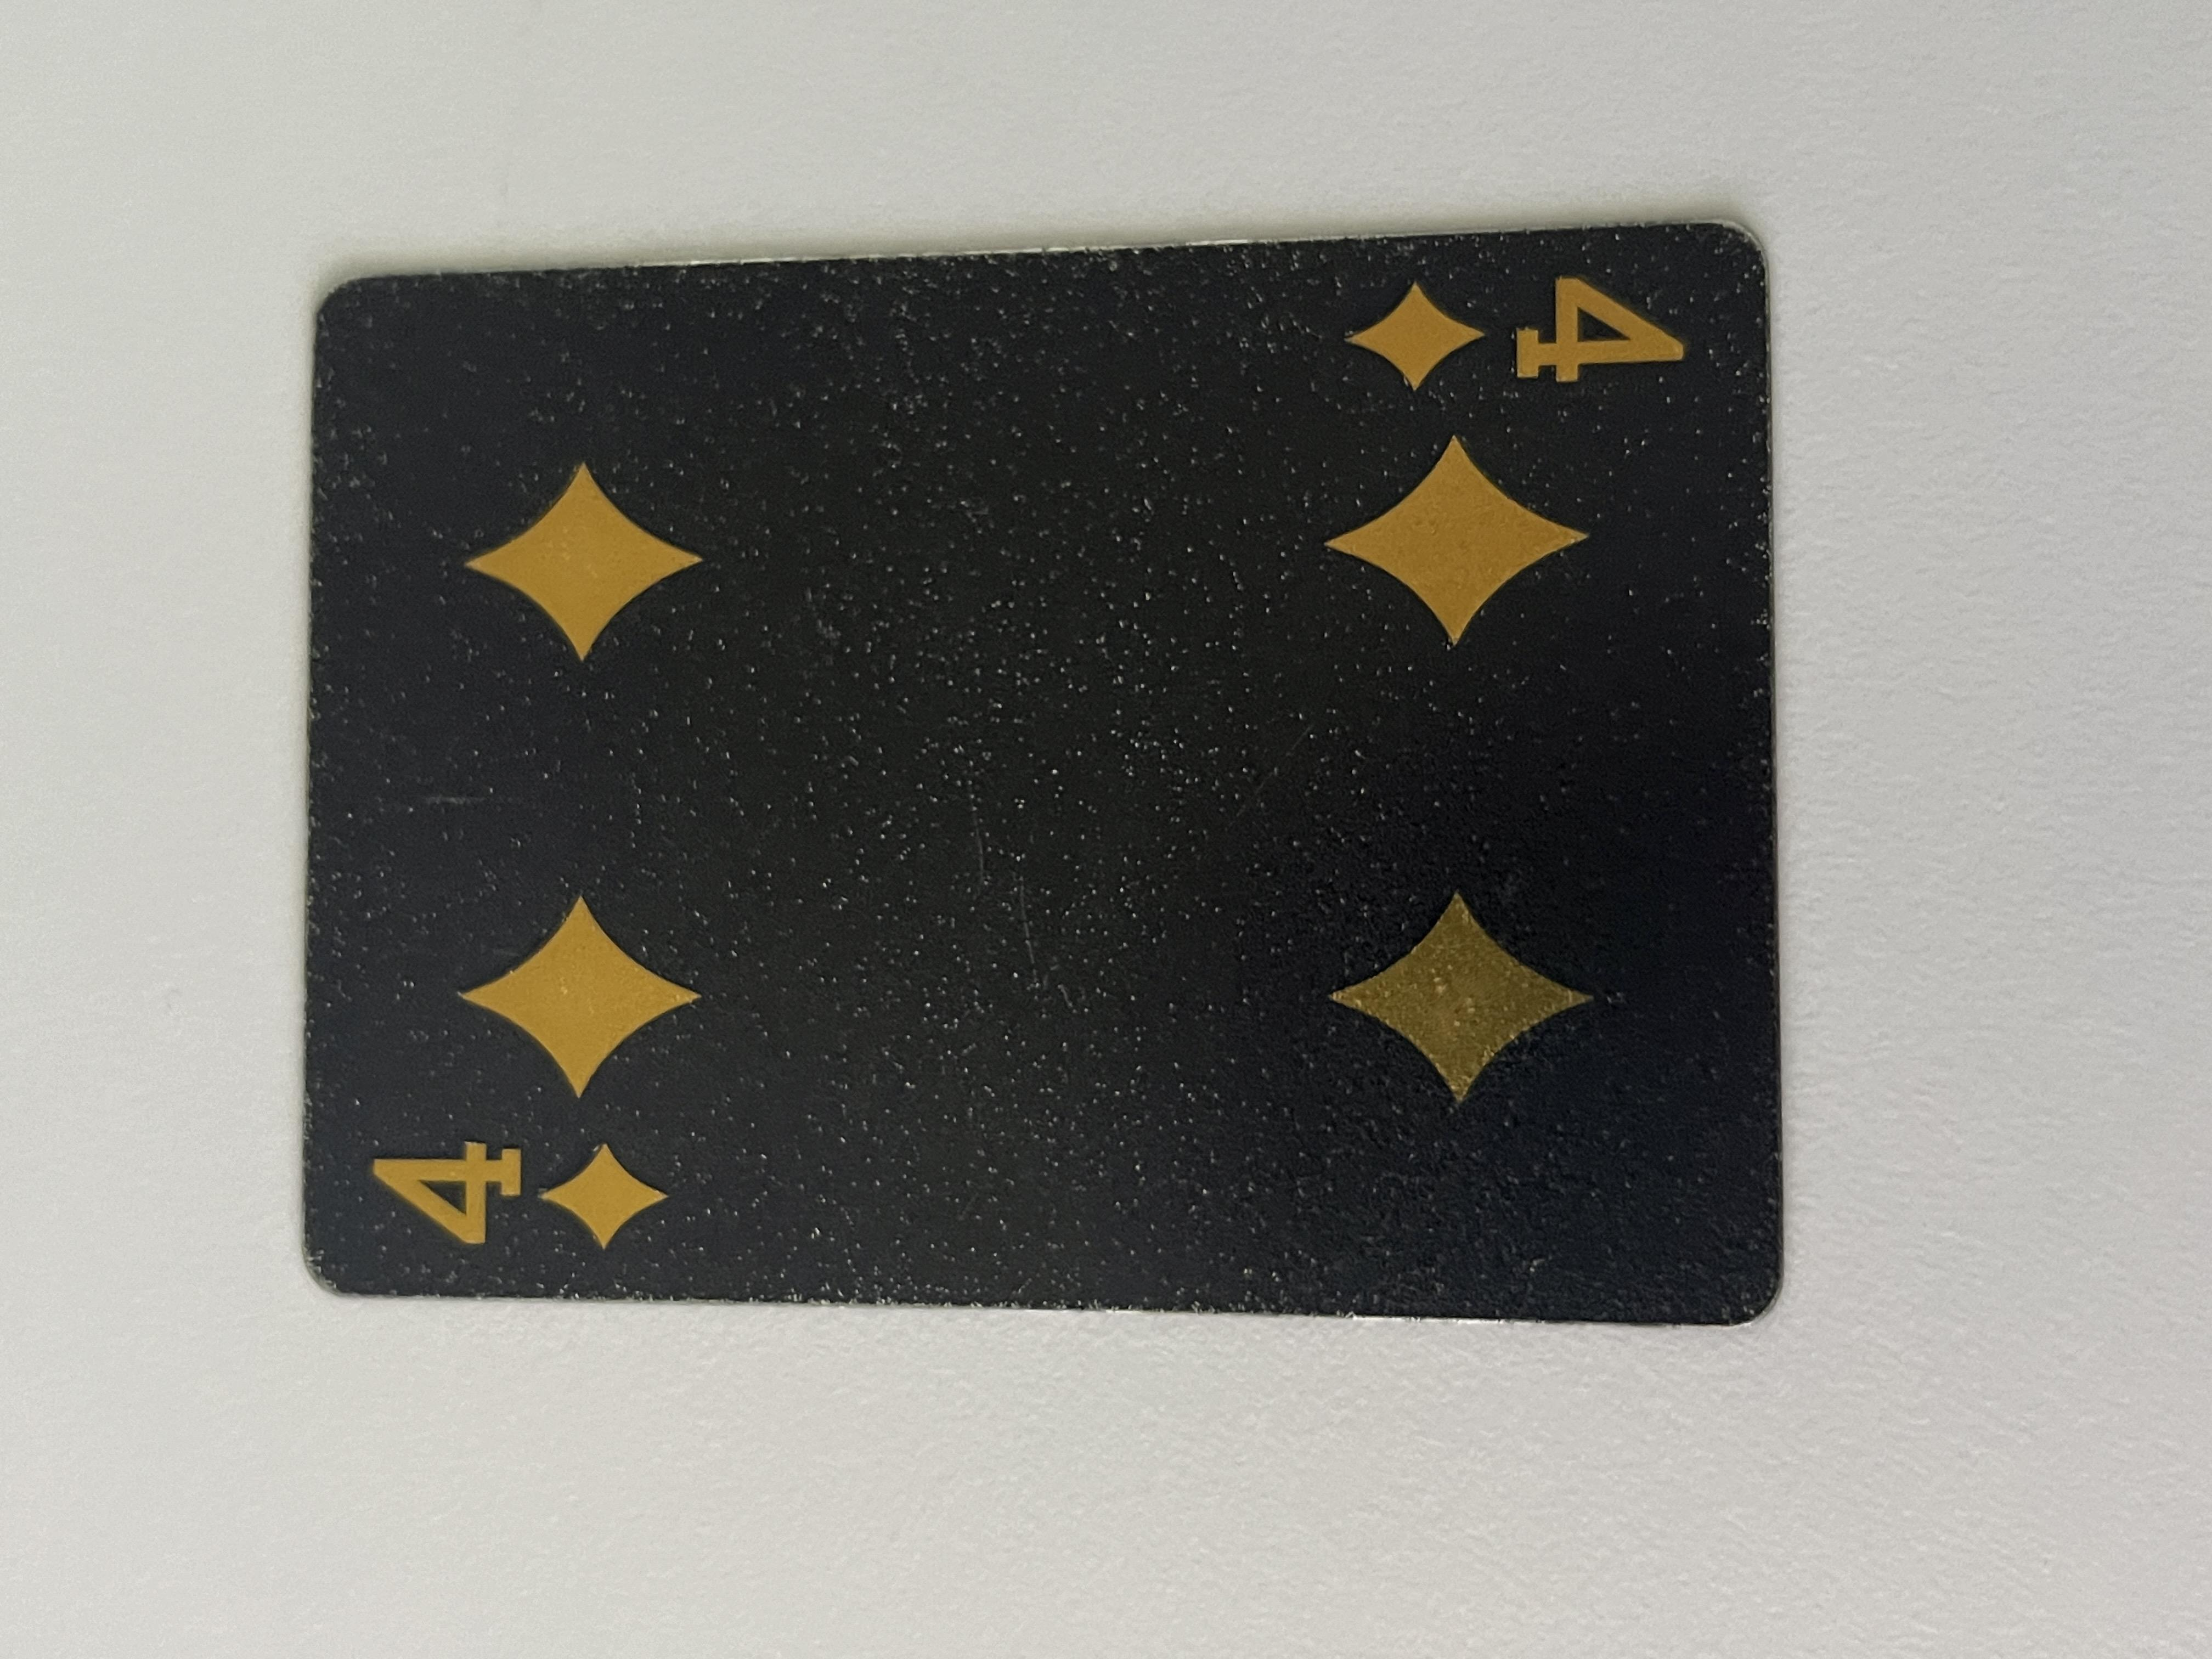4D: (1646, 1002, 1855, 1274), (538, 282, 712, 504)
